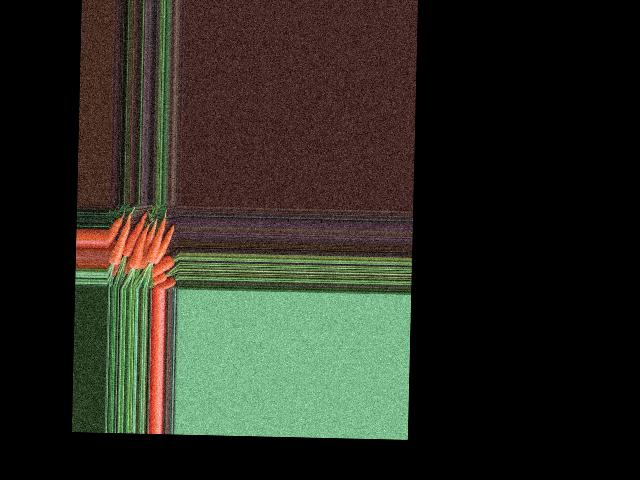carrot: (108, 207, 128, 270)
